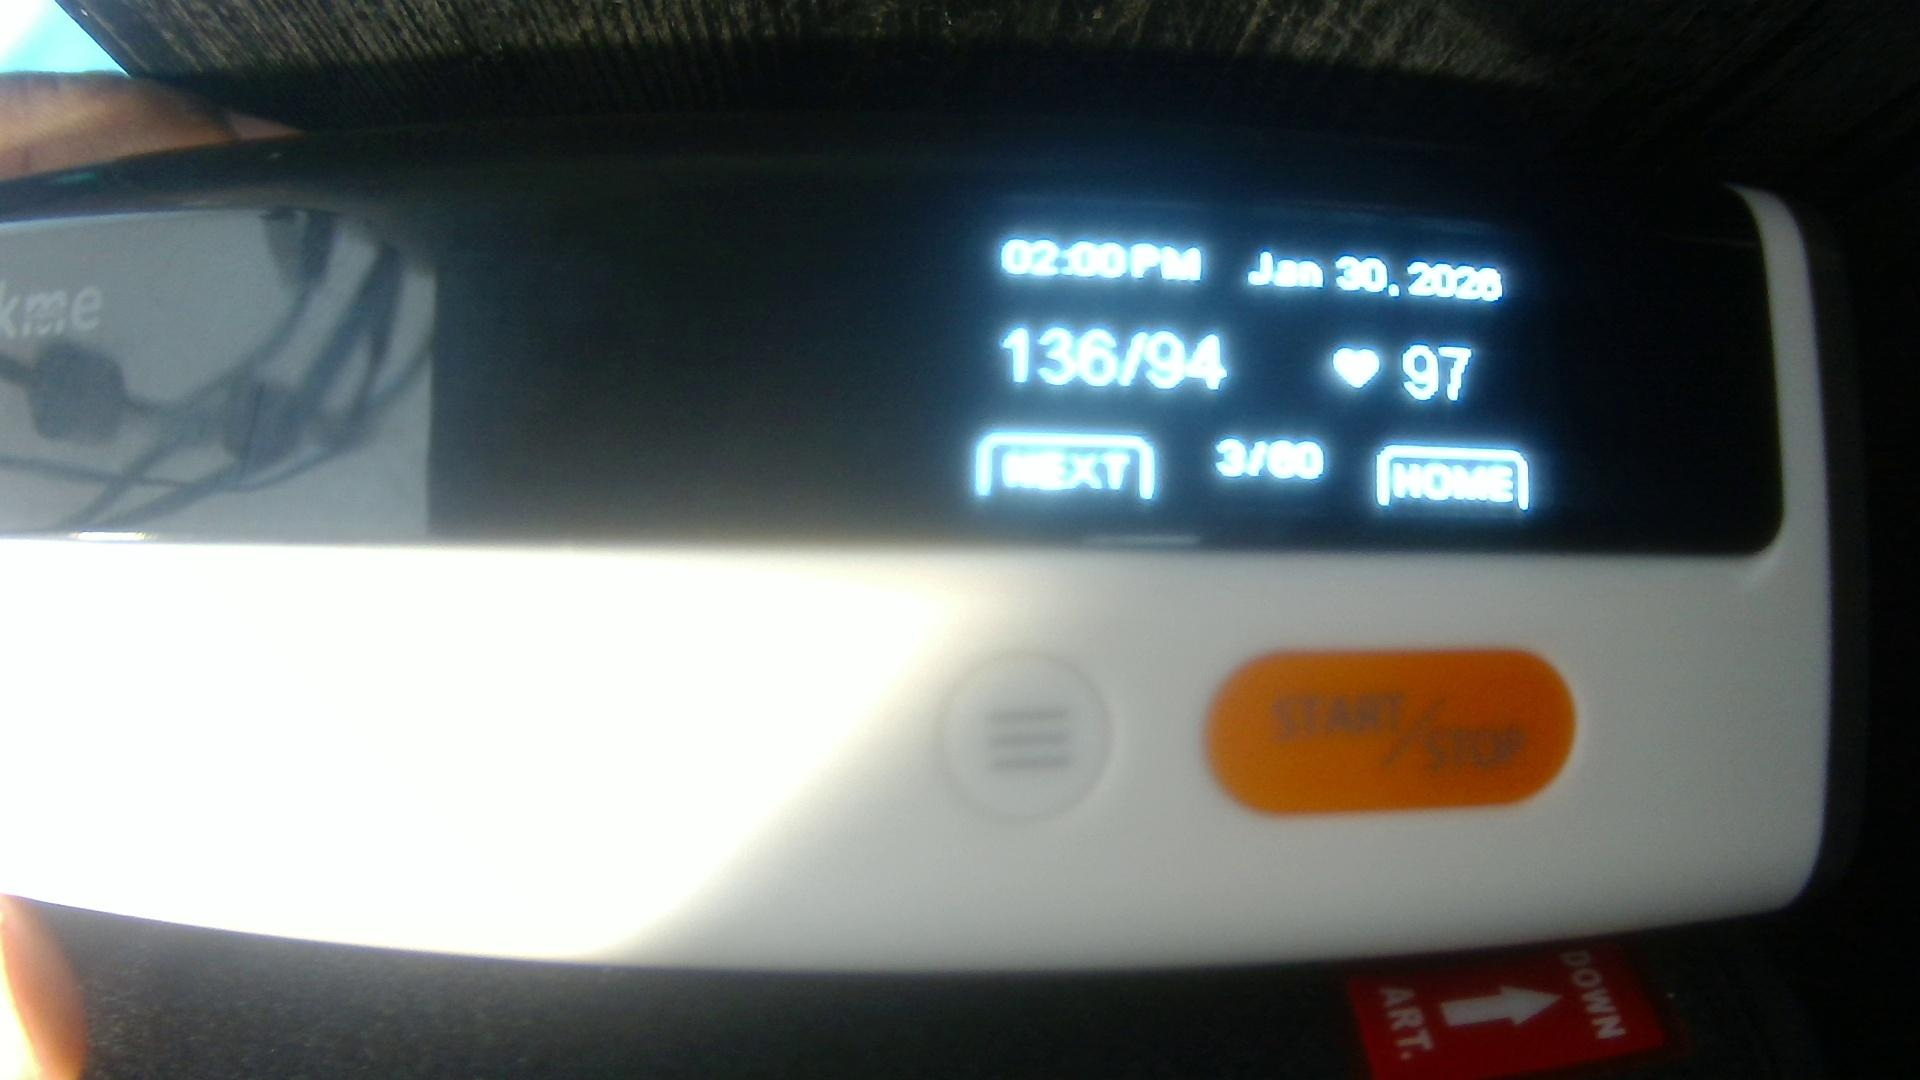DISPLAY: (13, 189, 1769, 553)
